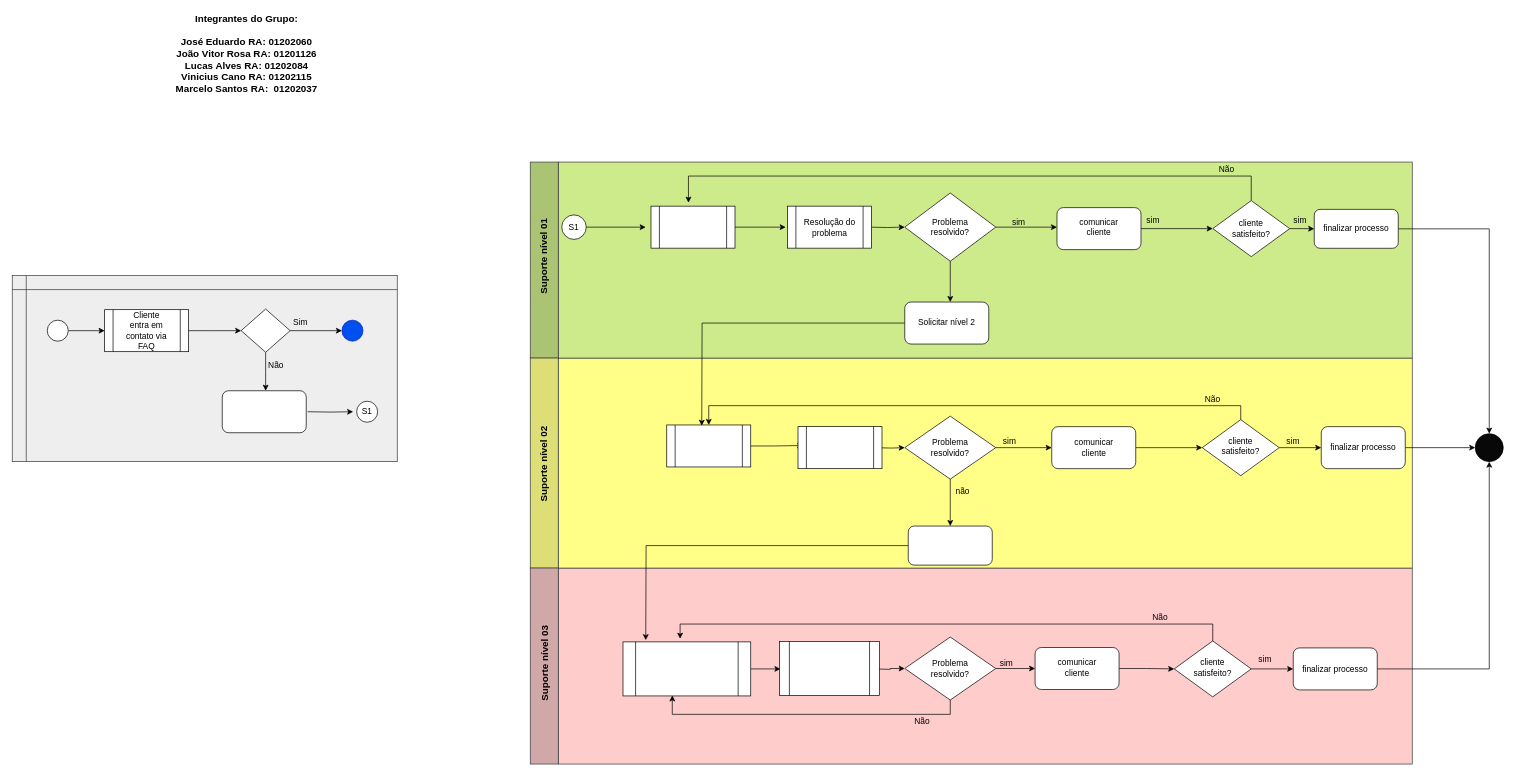
This 1516x776 diagram has some shape labels left out. The shapes that lost their labels are listed below. From the top down, each one's centre as x and y in pixels, then its label:
the point at 692,226: captura de informações
the point at 57,330: Inicio
the point at 265,330: Resolvido
the point at 264,411: Encaminhar para suporte N1
the point at 708,445: captura de mais informações
the point at 839,447: resolução de problemas
the point at 950,545: Solicitar nível3
the point at 686,668: Analisar a situação do problema
the point at 829,668: Iniciar resolução de problemas
